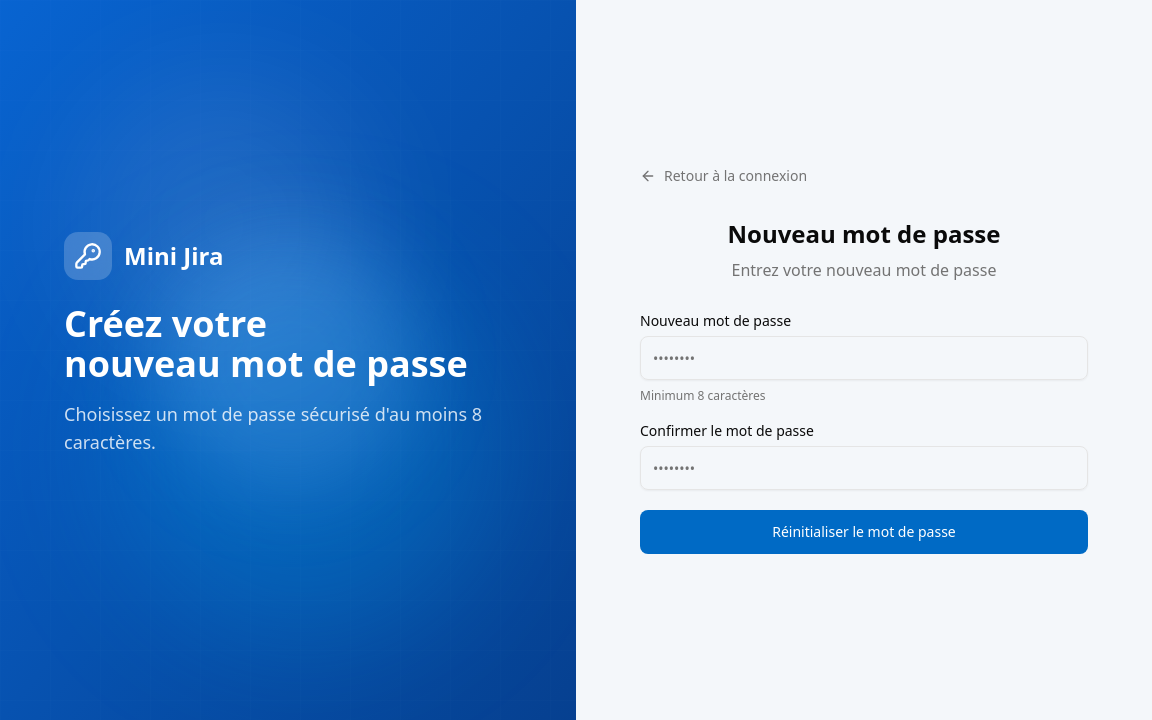
Scenario: ResetPassword › affiche une erreur si les mots de passe ne correspondent pas
Step 1. Type "password123" into the password field labelled "Nouveau mot de passe" → (864, 358), box [640, 336, 1088, 380]
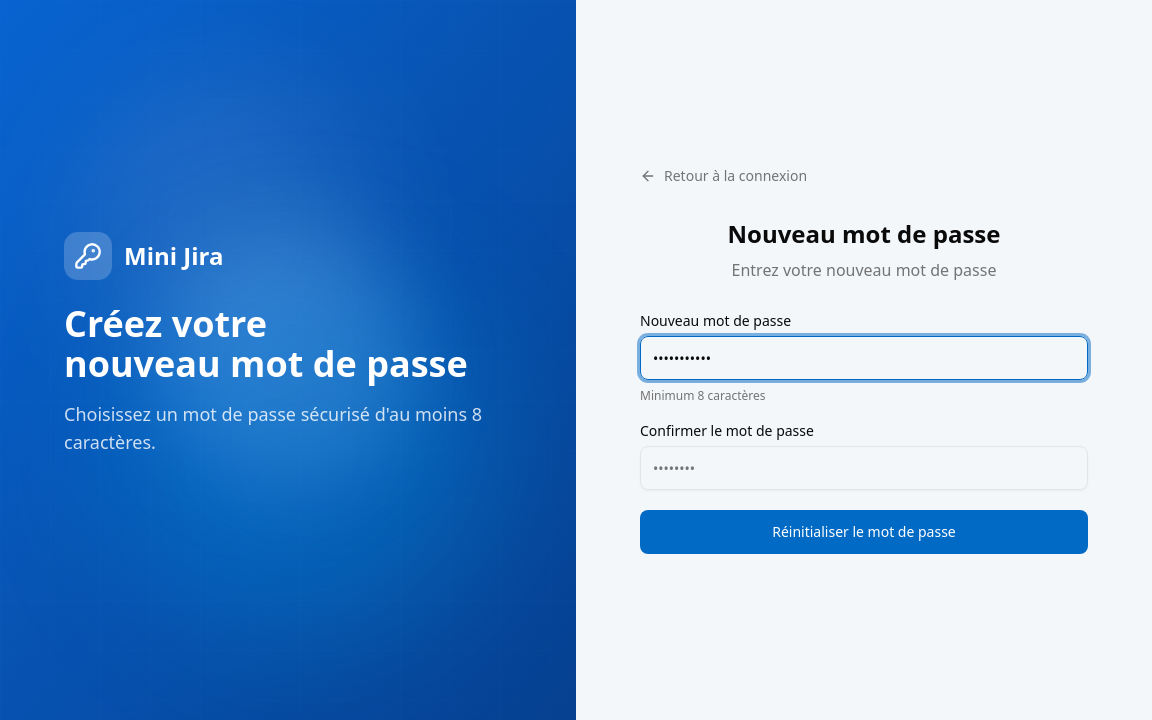
Step 2. Type "different123" into the password field labelled "Confirmer le mot de passe" → (864, 468), box [640, 446, 1088, 490]
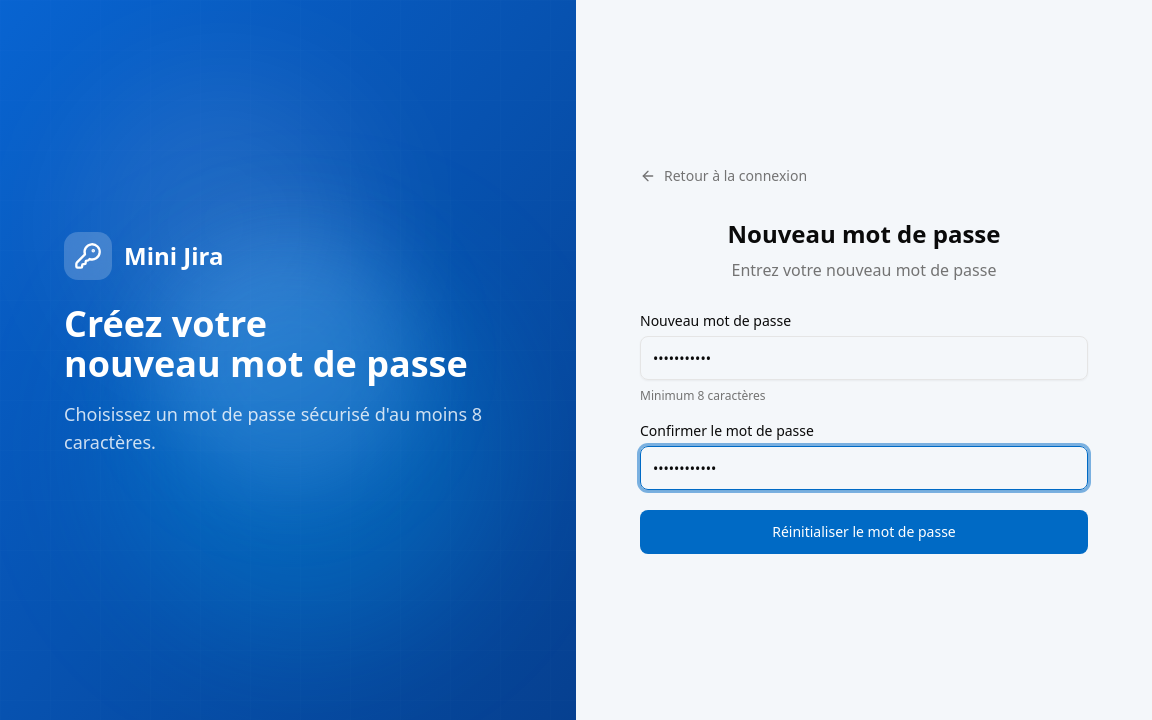
Step 3. Click the button "Réinitialiser le mot de passe" → (864, 532), box [640, 510, 1088, 554]
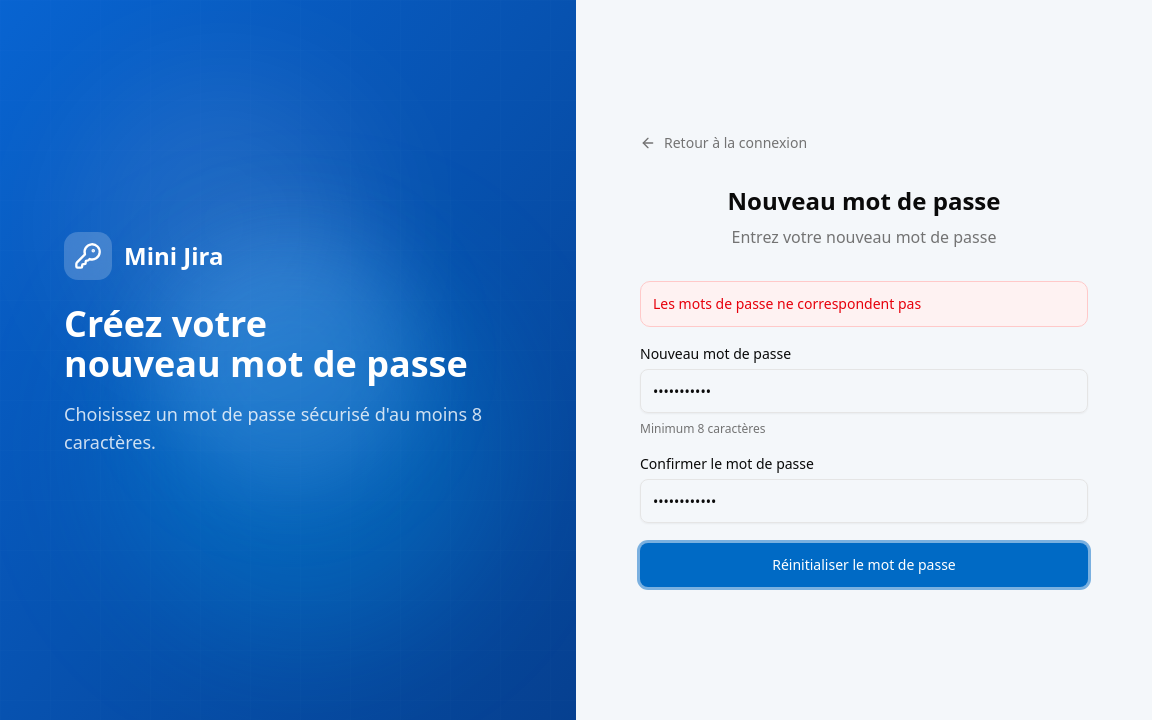
Expected: the text "Les mots de passe ne correspondent pas" is shown, [640, 281, 1088, 327]
